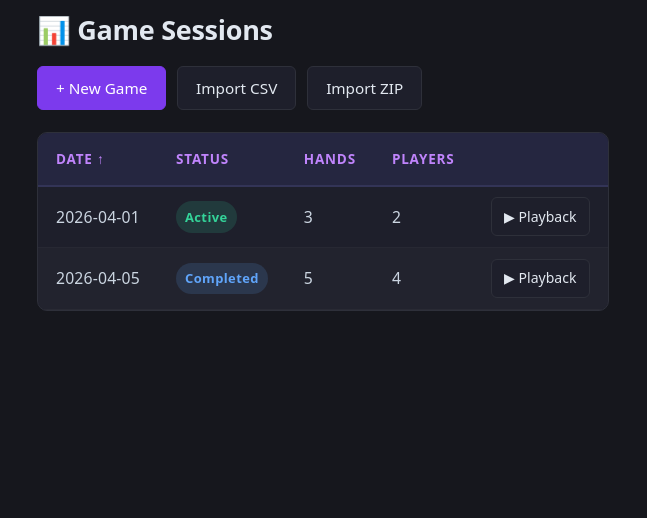
it: DataView › collapses expanded row on second click
Click the text "2026-04-01": (98, 217) [38,187,158,248]
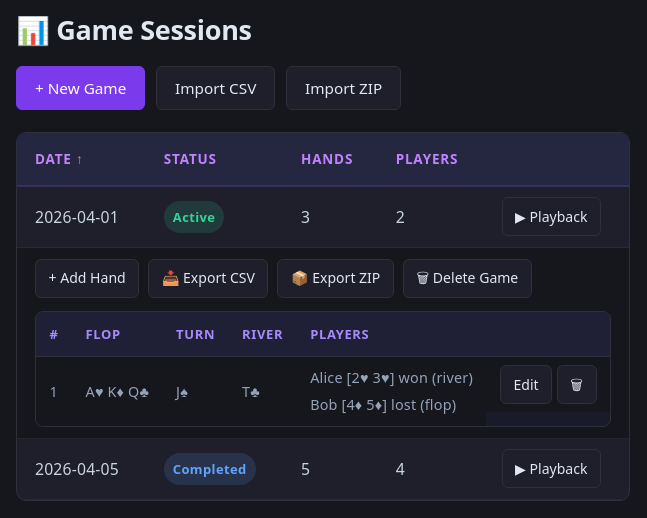
Check: the button "+ Add Hand" is shown, box [35,259,139,298]
Click the text "2026-04-01": (81, 217) [17,187,146,248]
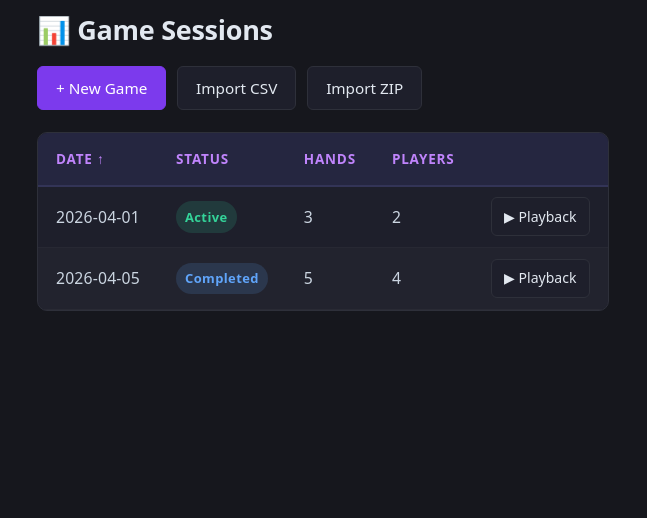
Check: the button "+ Add Hand" is gone
